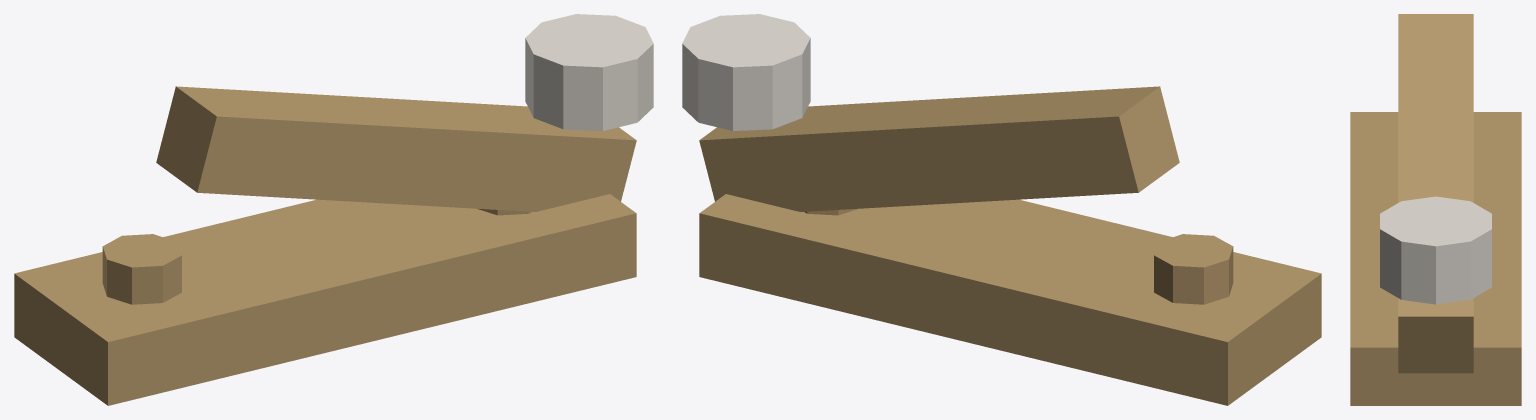
Rendered from c2_window_catch.glb.
3 renders of one model, left to right at view 1: azimuth 30°, elevation 25°; view 2: azimuth 150°, elevation 25°; view 3: azimuth 270°, elevation 25°, orthographic. The views are drawn at different scales.
Parts seen in each view (by area): view 1: c2_window_catch; view 2: c2_window_catch; view 3: c2_window_catch.
Part boxes in pixels (x1=…): c2_window_catch: x1=14, y1=14, x2=653, y2=405; c2_window_catch: x1=682, y1=14, x2=1321, y2=405; c2_window_catch: x1=1350, y1=14, x2=1521, y2=405.
Size of the model in its own units: 0.115 by 0.0446 by 0.032.
